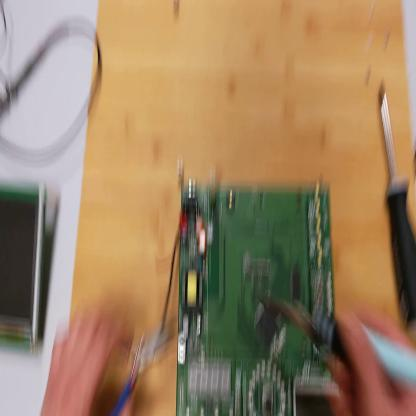hand: (327, 307, 416, 415), (42, 302, 123, 415)
low voltage board: (156, 149, 339, 416)
oscilloscope probe tip: (3, 42, 53, 121)
pliers: (107, 297, 181, 412)
screwdriver-: (381, 80, 416, 326)
welder probe tip: (261, 293, 415, 393)
working area: (69, 3, 415, 414)
